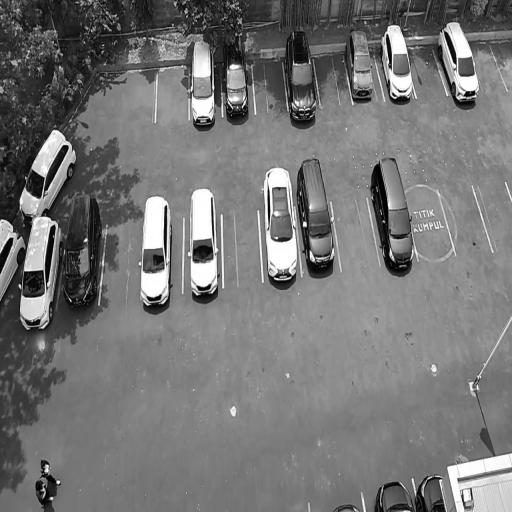Car: (14, 121, 79, 231), (365, 147, 418, 274), (14, 214, 66, 333), (58, 192, 106, 314), (293, 150, 338, 280), (261, 154, 302, 294), (430, 17, 484, 114), (138, 190, 175, 319), (283, 23, 325, 136), (188, 185, 220, 308), (377, 13, 417, 108), (341, 22, 377, 107), (189, 37, 217, 134), (0, 208, 27, 308), (222, 34, 250, 122), (374, 479, 416, 512), (417, 473, 448, 512), (331, 503, 359, 512)
Space Available: (99, 222, 143, 310), (441, 184, 493, 256), (408, 191, 458, 261), (333, 197, 379, 269), (223, 205, 263, 287), (475, 181, 512, 255), (469, 39, 508, 100), (407, 41, 447, 97), (253, 55, 291, 113), (314, 50, 353, 106), (155, 63, 189, 123)
